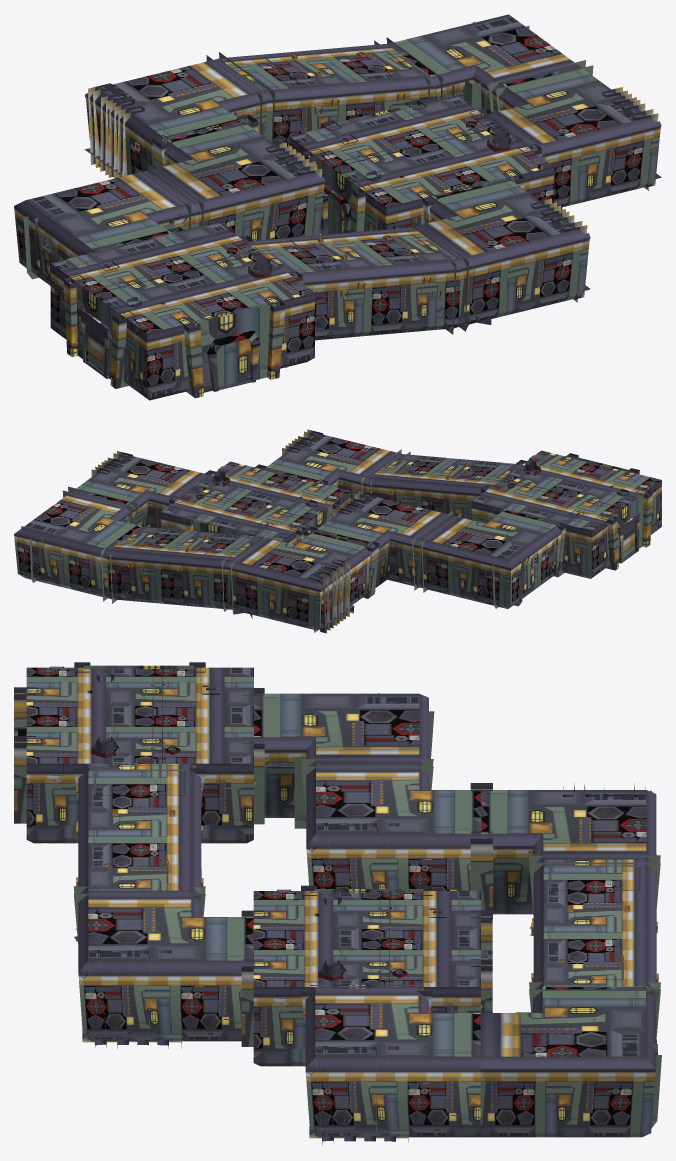
The model's file is Combined_Mesh_root_scene__4_e0ea2853__zombies2_diffuse_07_65562b6b_c1f257.obj.
3 renders of one model, top to bottom at view 1: azimuth 30°, elevation 25°; view 2: azimuth 150°, elevation 25°; view 3: azimuth 270°, elevation 25°, orthographic. The views are drawn at different scales.
Bounding box in the file's own units: 76.84 × 12.64 × 57.04.
Materials: 171 (171 with a texture image).
